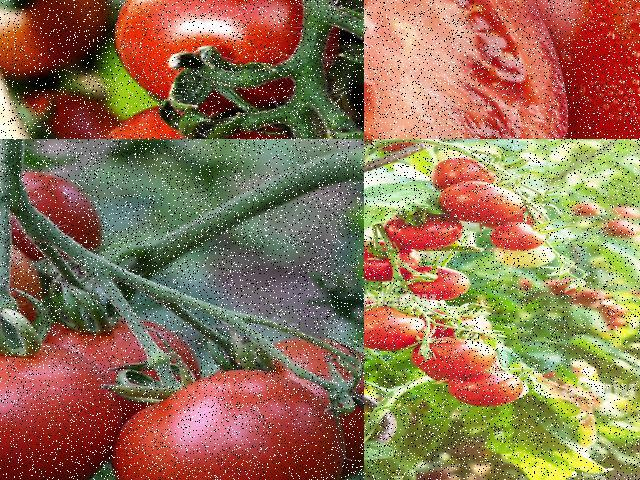tomato: (89, 0, 342, 120), (123, 366, 363, 479), (476, 0, 639, 138), (0, 344, 123, 479), (250, 341, 363, 470), (0, 172, 117, 287), (0, 224, 42, 360), (442, 180, 524, 224), (413, 335, 495, 377), (386, 211, 472, 249), (448, 373, 534, 408), (364, 305, 433, 348), (27, 101, 92, 138), (409, 268, 471, 306), (364, 241, 420, 281), (478, 226, 548, 250), (364, 139, 442, 151)
